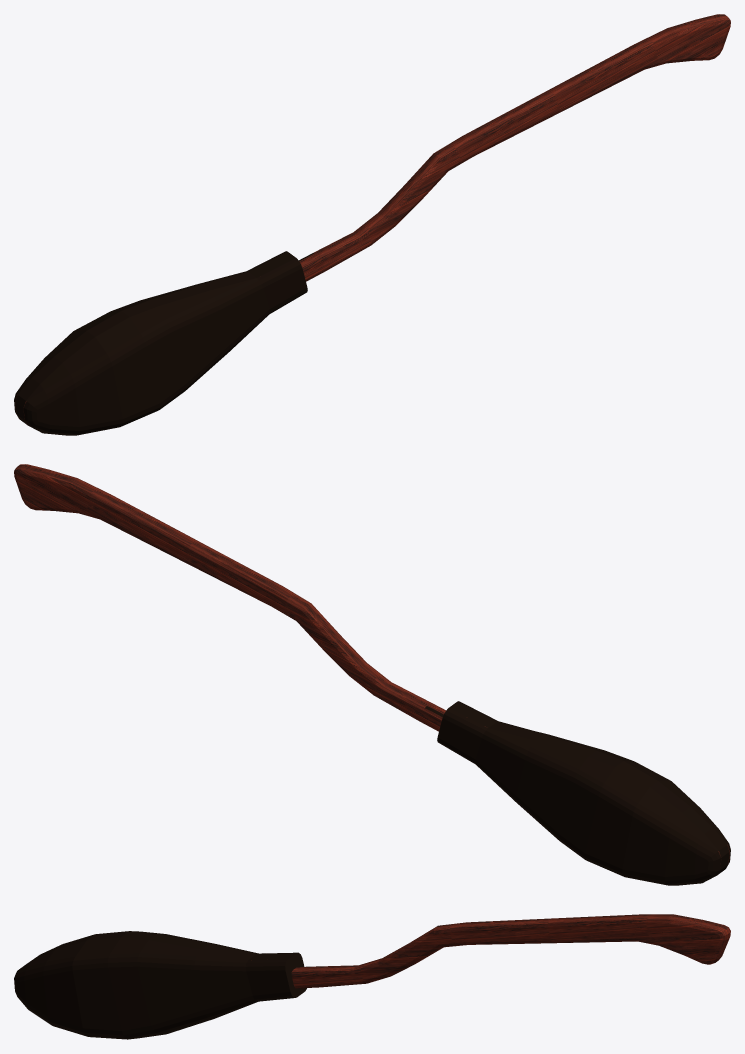
The model's file is broom3.fbx.
The picture shows the model from 3 angles, top to bottom: view 1: azimuth 30°, elevation 25°; view 2: azimuth 150°, elevation 25°; view 3: azimuth 330°, elevation 25°; orthographic projection.
Visible parts, largest first — view 1: Plane; view 2: Plane; view 3: Plane.
Boxes of the visible parts, x1,y1,x2,y2 form: Plane: [14, 14, 730, 435]; Plane: [14, 464, 730, 885]; Plane: [14, 914, 730, 1039].
Size of the model in its own units: 967 by 336 by 94.
Materials: 2 (1 with a texture image).
